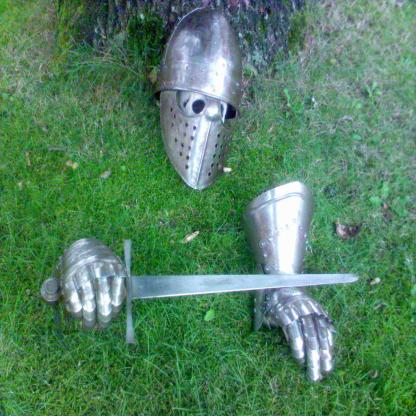Helmet: (148, 23, 250, 172)
